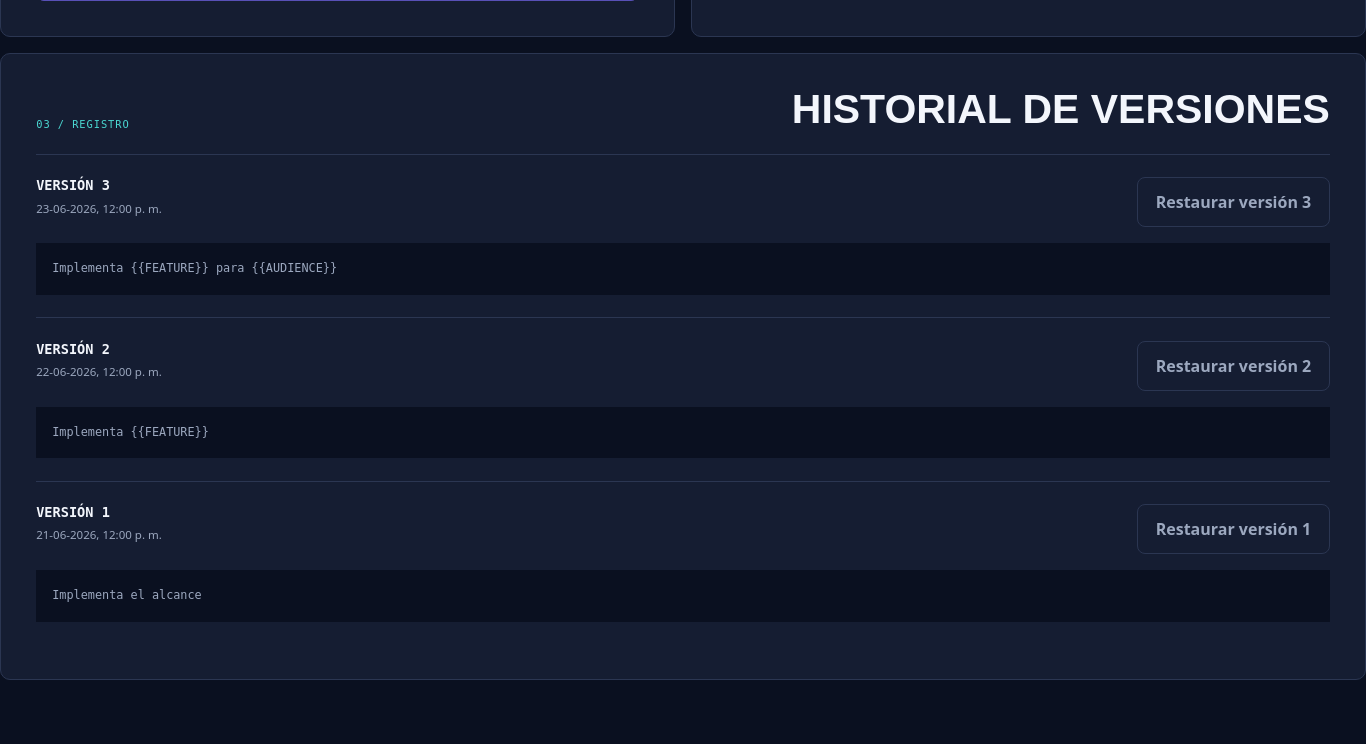
Test: TemplateEditor › confirma la restauración y anuncia la nueva versión
This screenshot has width=1366, height=744.
(page scrolled)
Click the button "Restaurar versión 2" at (1233, 366), box [1137,341,1330,391]
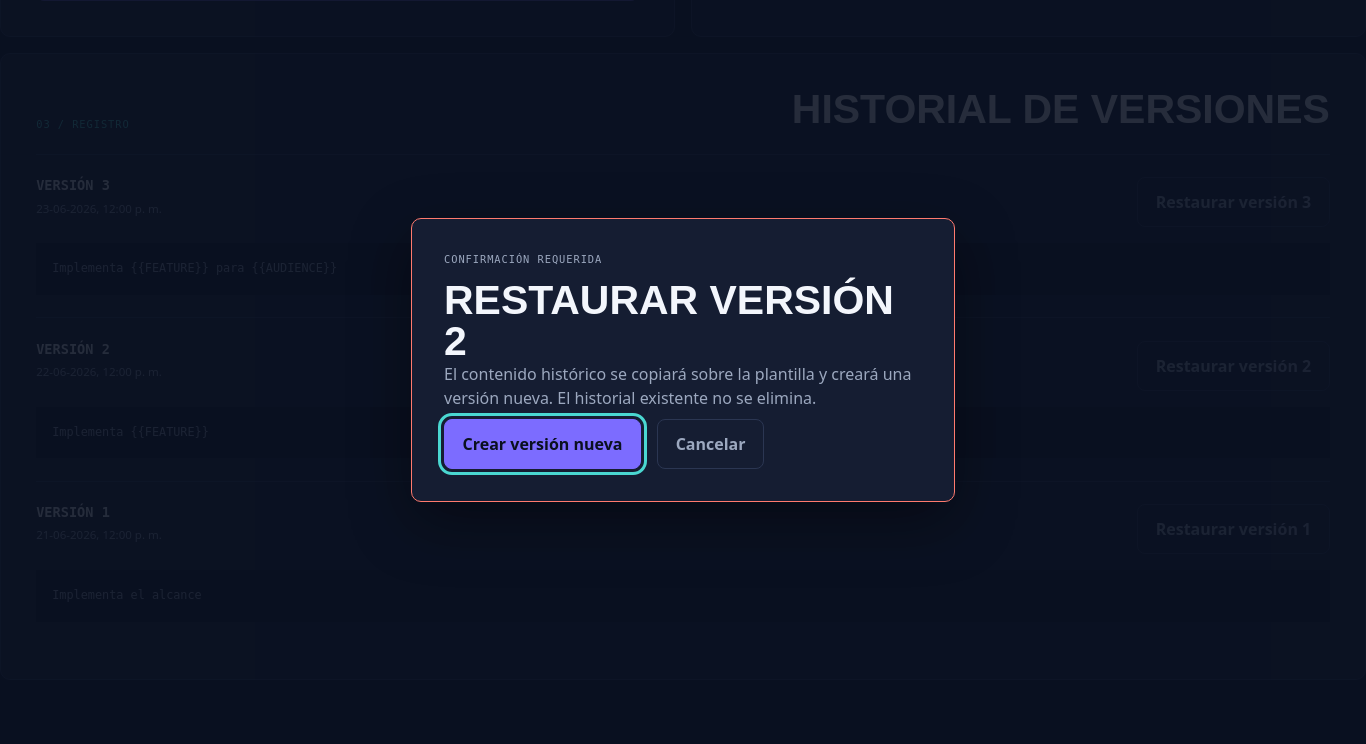
Click the button "Crear versión nueva" at (542, 444), box [444,419,641,469]
(page scrolled)
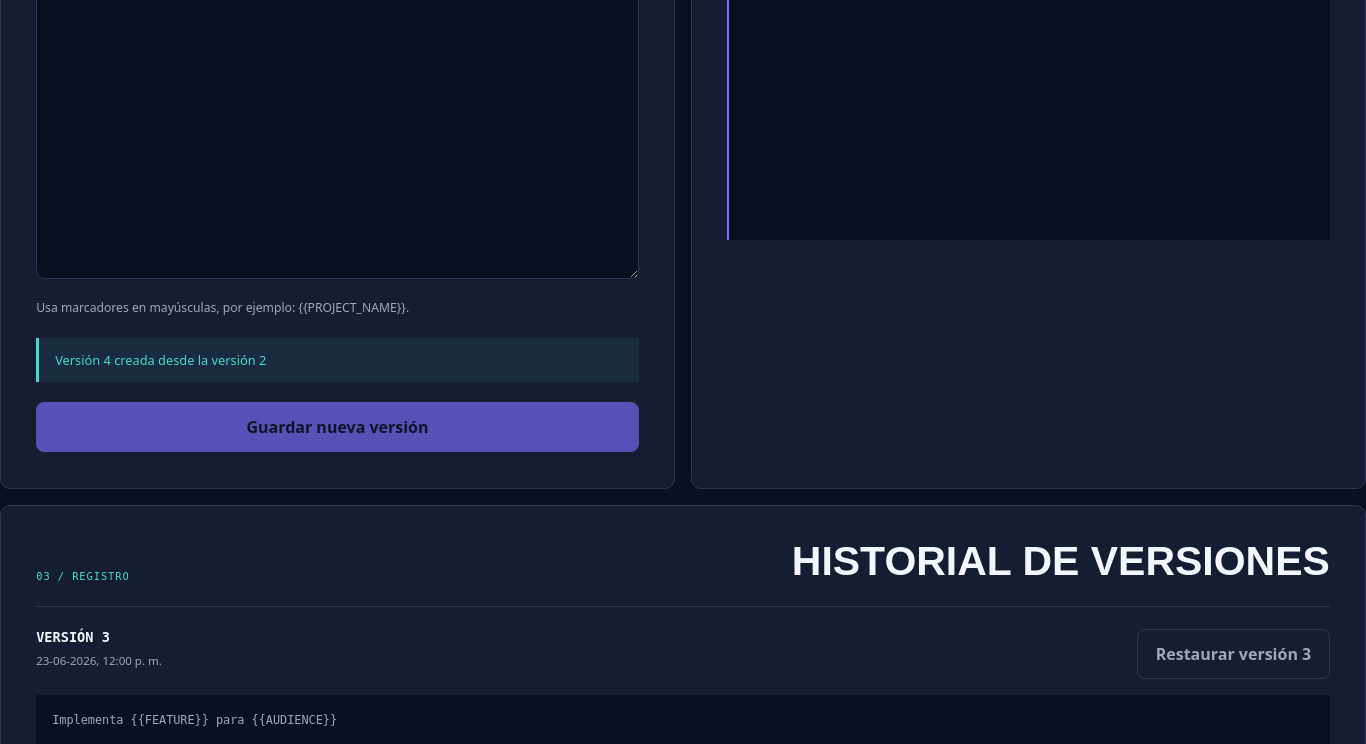
Expected: the message reads "Versión 4 creada desde la versión 2", [55,350,266,368]
Expected: the dialog is gone
